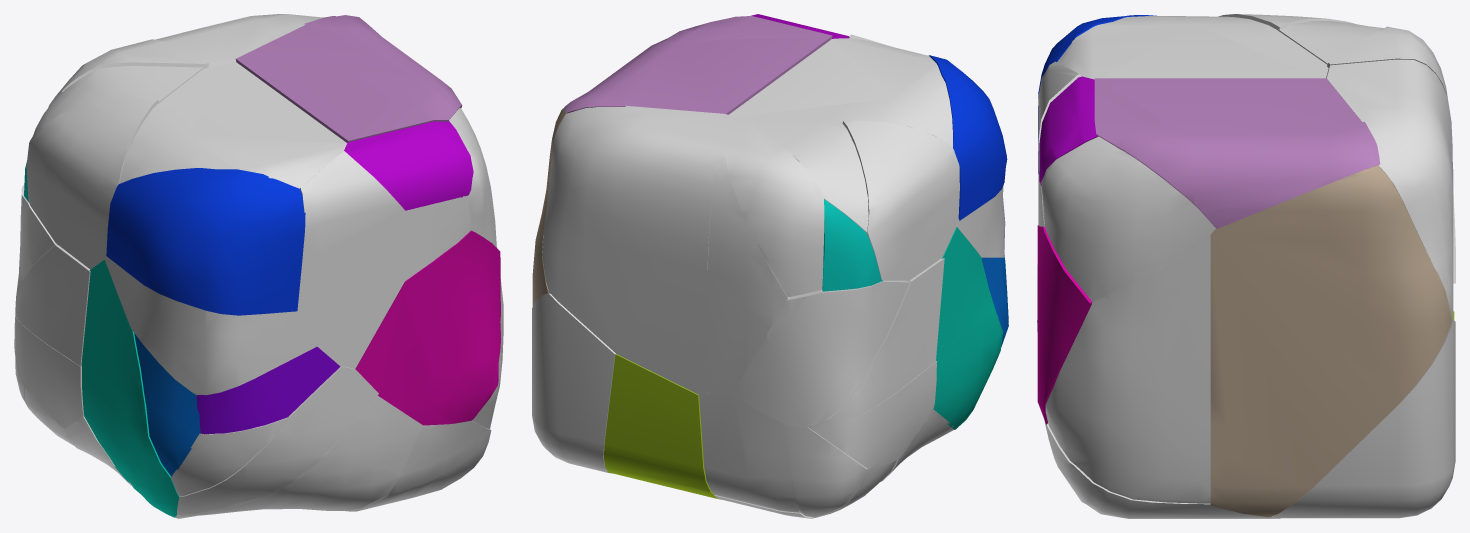
File: IceBlock_Broken.fbx
The picture shows the model from 3 angles, left to right: view 1: azimuth 30°, elevation 25°; view 2: azimuth 150°, elevation 25°; view 3: azimuth 270°, elevation 25°; orthographic projection. The views are drawn at different scales.
Visible parts, largest first — view 1: Cube_cell; view 2: Cube_cell; view 3: Cube_cell.
Part boxes in pixels (x1,y1,x2,y2): Cube_cell: (14, 14, 503, 518); Cube_cell: (532, 14, 1008, 518); Cube_cell: (1037, 14, 1455, 518).
Bounding box in the file's own units: 203 × 202 × 202.
